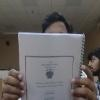notebook: (17, 31, 85, 99)
